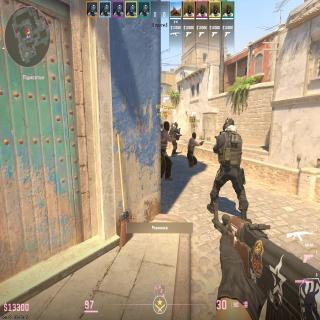CT-Body: (215, 118, 242, 215), (170, 122, 180, 157)
CT-Head: (223, 118, 235, 131), (174, 122, 178, 127)
T-Body: (160, 121, 172, 180), (187, 132, 197, 167)
T-Head: (163, 121, 170, 131), (192, 132, 196, 139), (160, 123, 163, 128)
